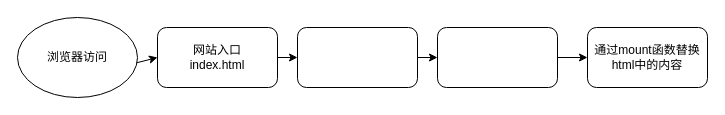
This 725x115 diagram has some shape labels left out. The shapes that lost their labels are listed below. From the top down, each one's box as (x1, y1, x2, y2) in pixels, then its label:
(296, 26, 418, 88): html文件加载引入的js/css等资源文件
(436, 26, 558, 88): js入口文件开始实例化Vue应用
